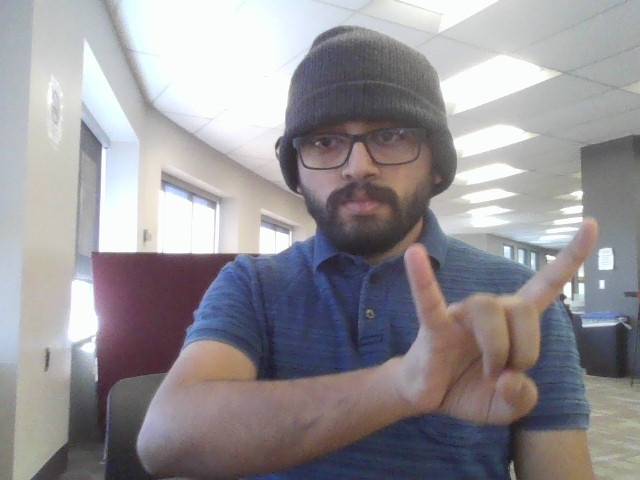help: (379, 194, 612, 450)
